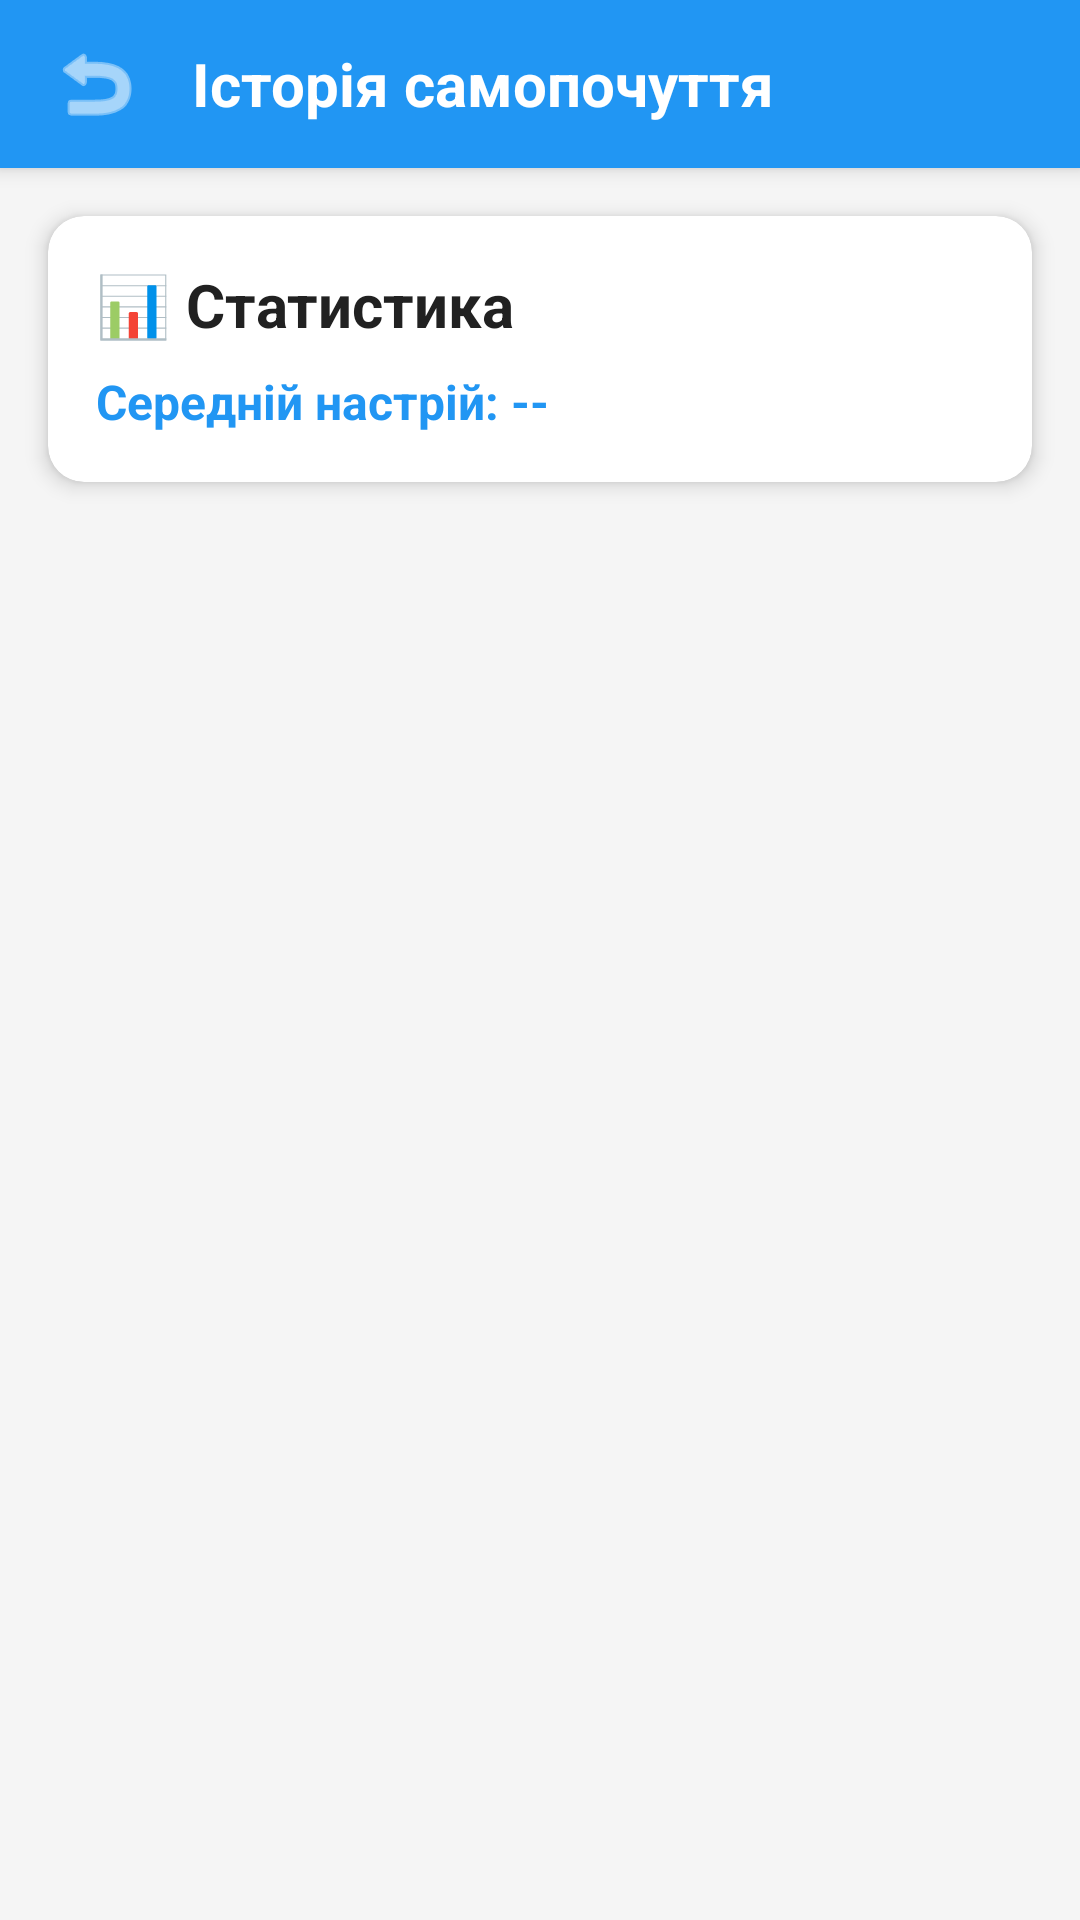

Locate icon controls on the screen. Image size 1080*1920, boxes as (x1, y1, x2, y2).
Назад: (63, 53, 132, 116)
